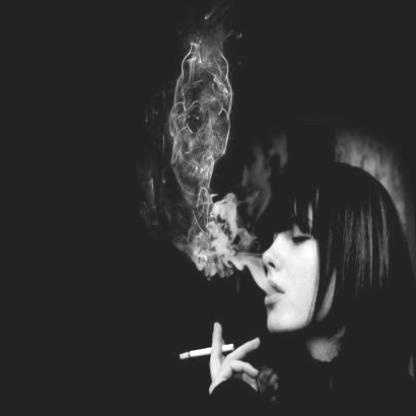cigarette: (177, 342, 237, 364)
person: (257, 159, 416, 415)
smoke: (162, 43, 244, 292)
